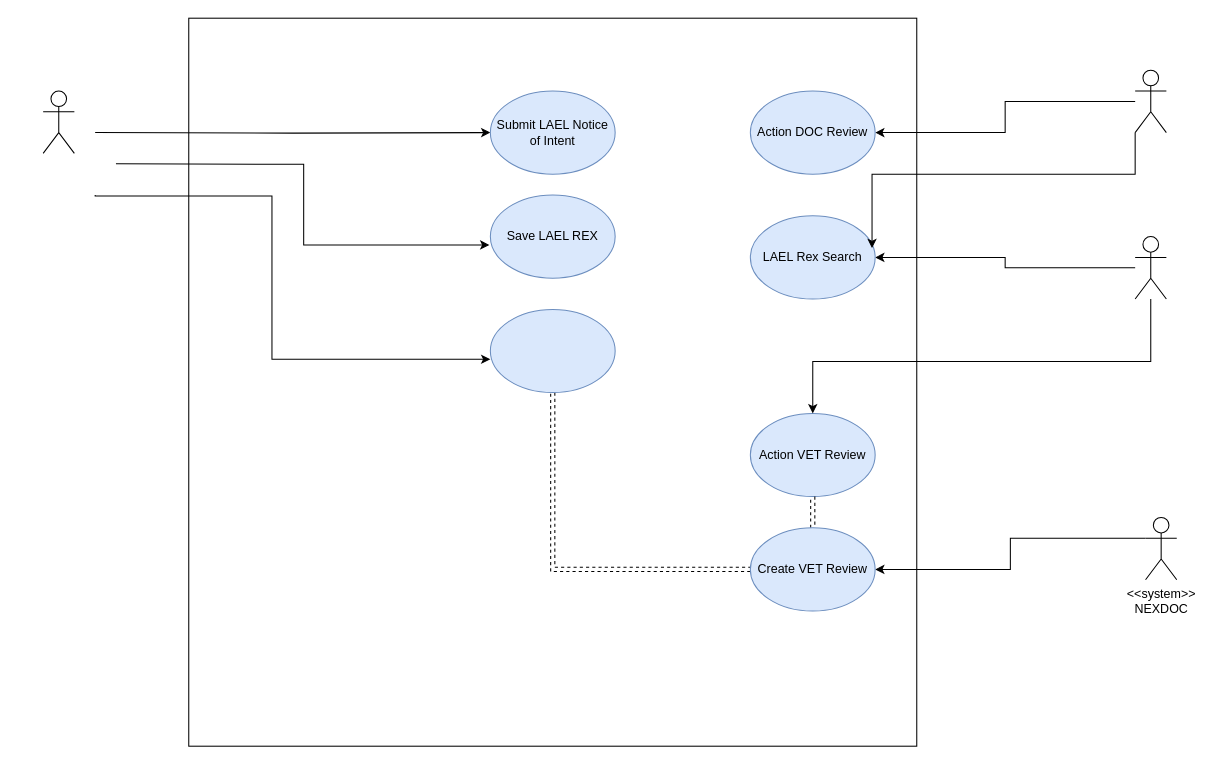
Image size: 1227x764. Some labels were removed from this diagram. The box of each missing label's shape, as (x1, y1, x2, y2) in pixels:
LAEL Exporter: (42, 90, 74, 153)
LAEL Support Officer: (1134, 69, 1166, 133)
LAEL VET Officer: (1134, 236, 1166, 299)
Lodge LAEL REX: (489, 308, 615, 393)
